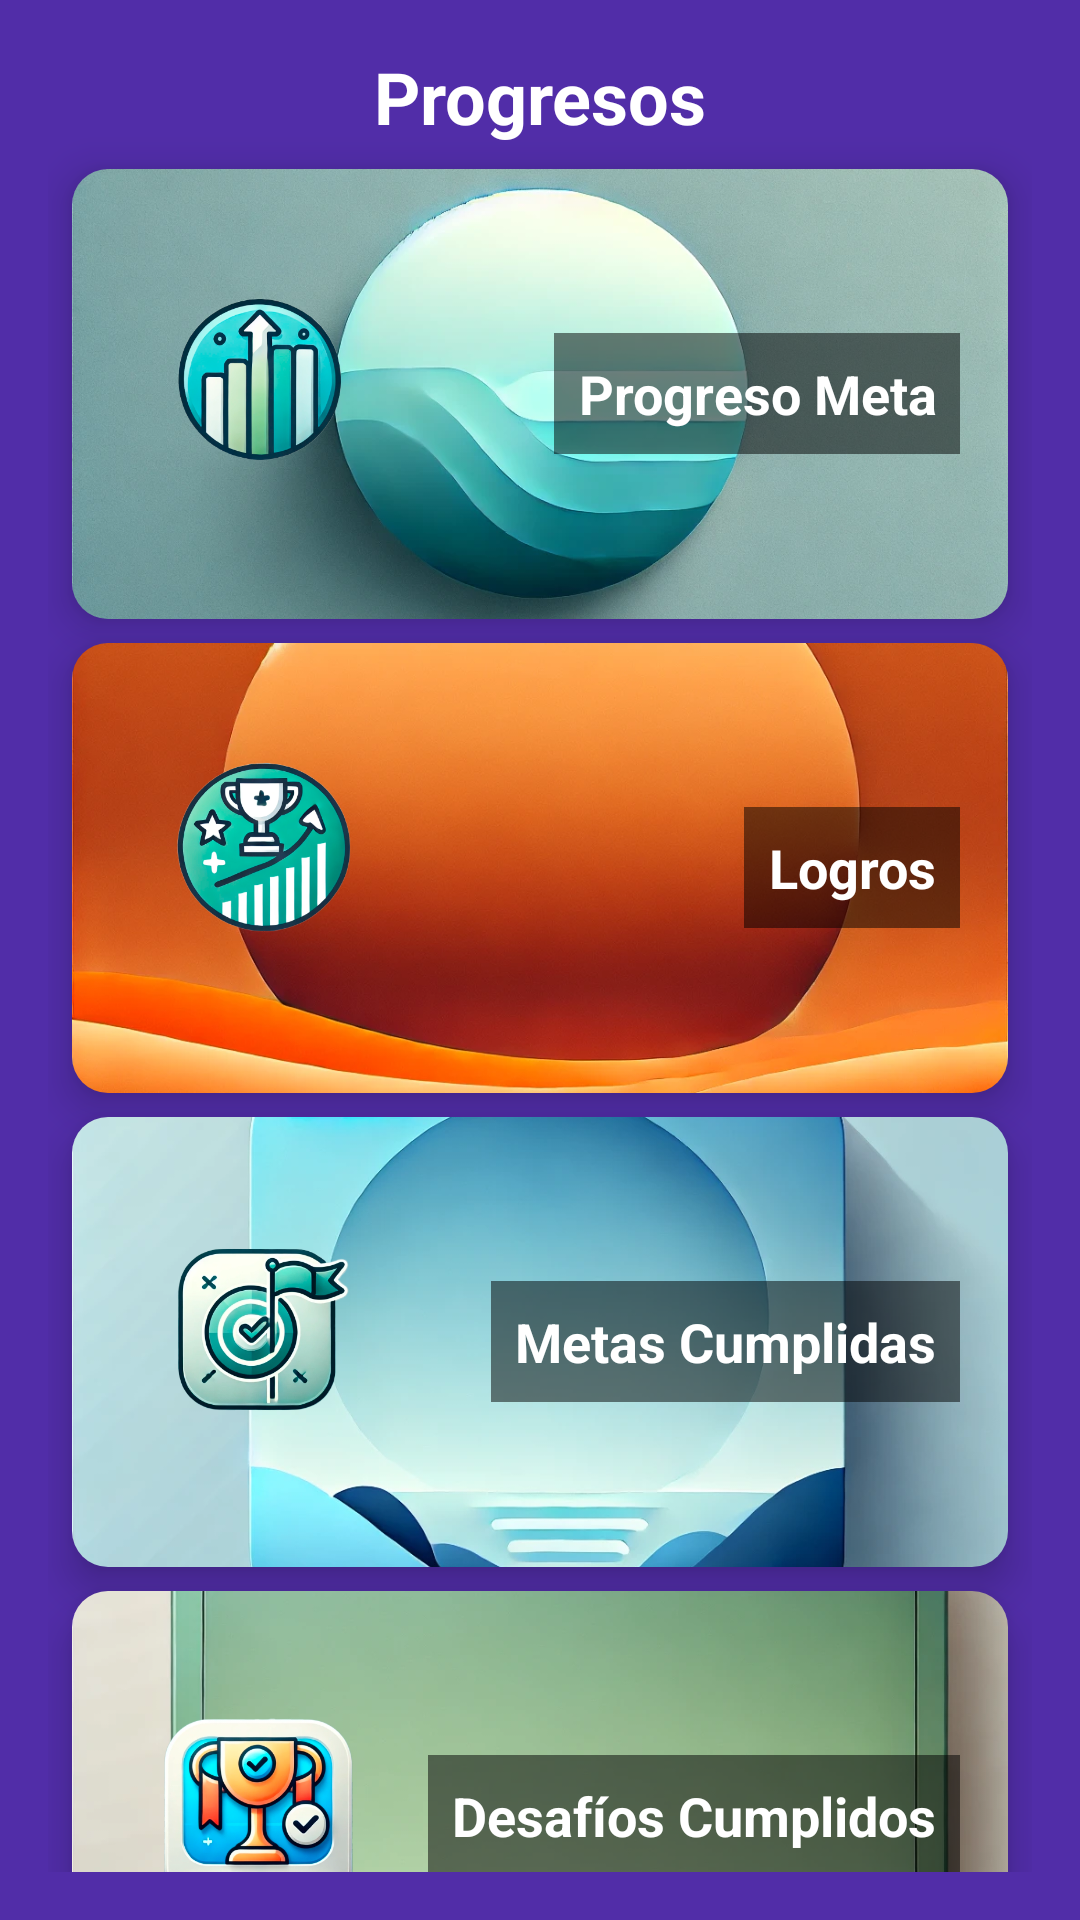

Where to tap for icons on this 1080px x 1920px app screen, as (x=x, y=y):
logros: (x=255, y=868)
progreso meta: (x=255, y=394)
